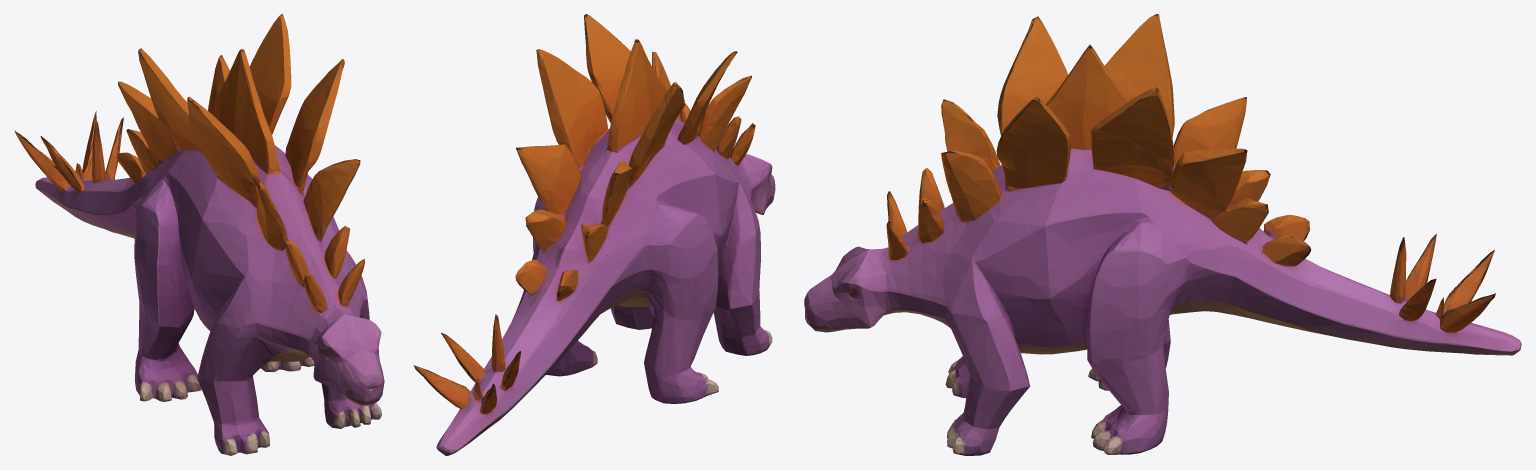
Rendered from stegosaurus.glb.
The picture shows the model from 3 angles, left to right: view 1: azimuth 30°, elevation 25°; view 2: azimuth 150°, elevation 25°; view 3: azimuth 270°, elevation 25°; orthographic projection. The views are drawn at different scales.
Visible parts, largest first — view 1: geometry_0; view 2: geometry_0; view 3: geometry_0.
Part boxes in pixels (<box>): geometry_0: <box>14,14,384,455</box>; geometry_0: <box>414,14,775,455</box>; geometry_0: <box>804,14,1521,455</box>.
Bounding box in the file's own units: 0.3244 × 0.572 × 1.
1 material, 1 textured.
